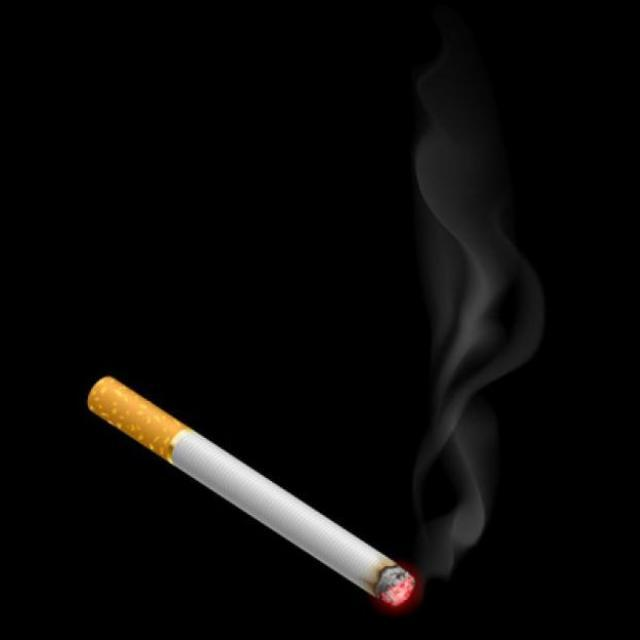cigarette: (85, 358, 419, 610)
